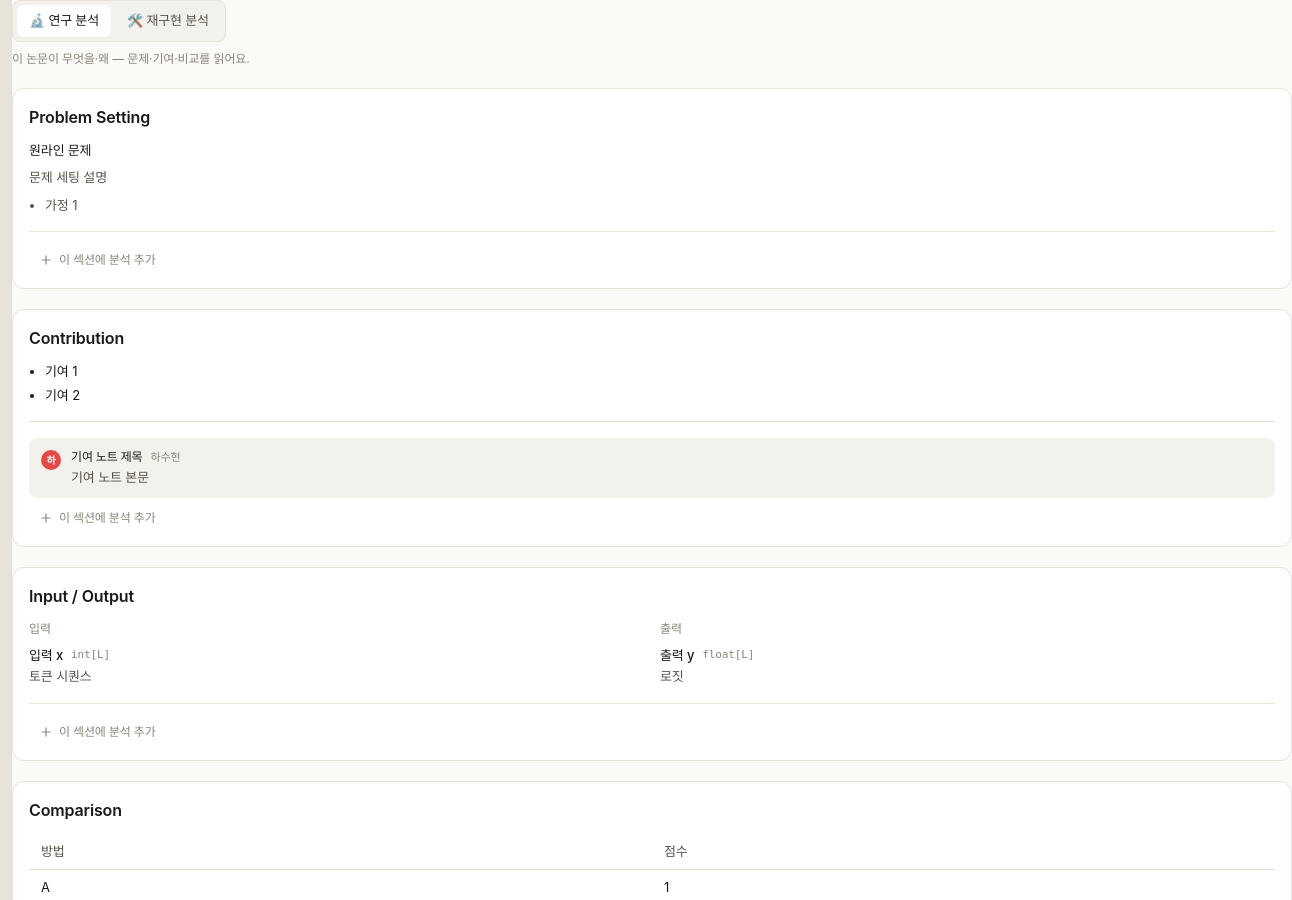
Test: AnalysisView 재구현 — GitHub 구조·모델 구조 › 재구현 관점에 GitHub 구조와 모델 구조 섹션이 보인다
Click the button "🛠️ 재구현 분석".
click(168, 21)  # box [115,5,221,36]
(page scrolled)
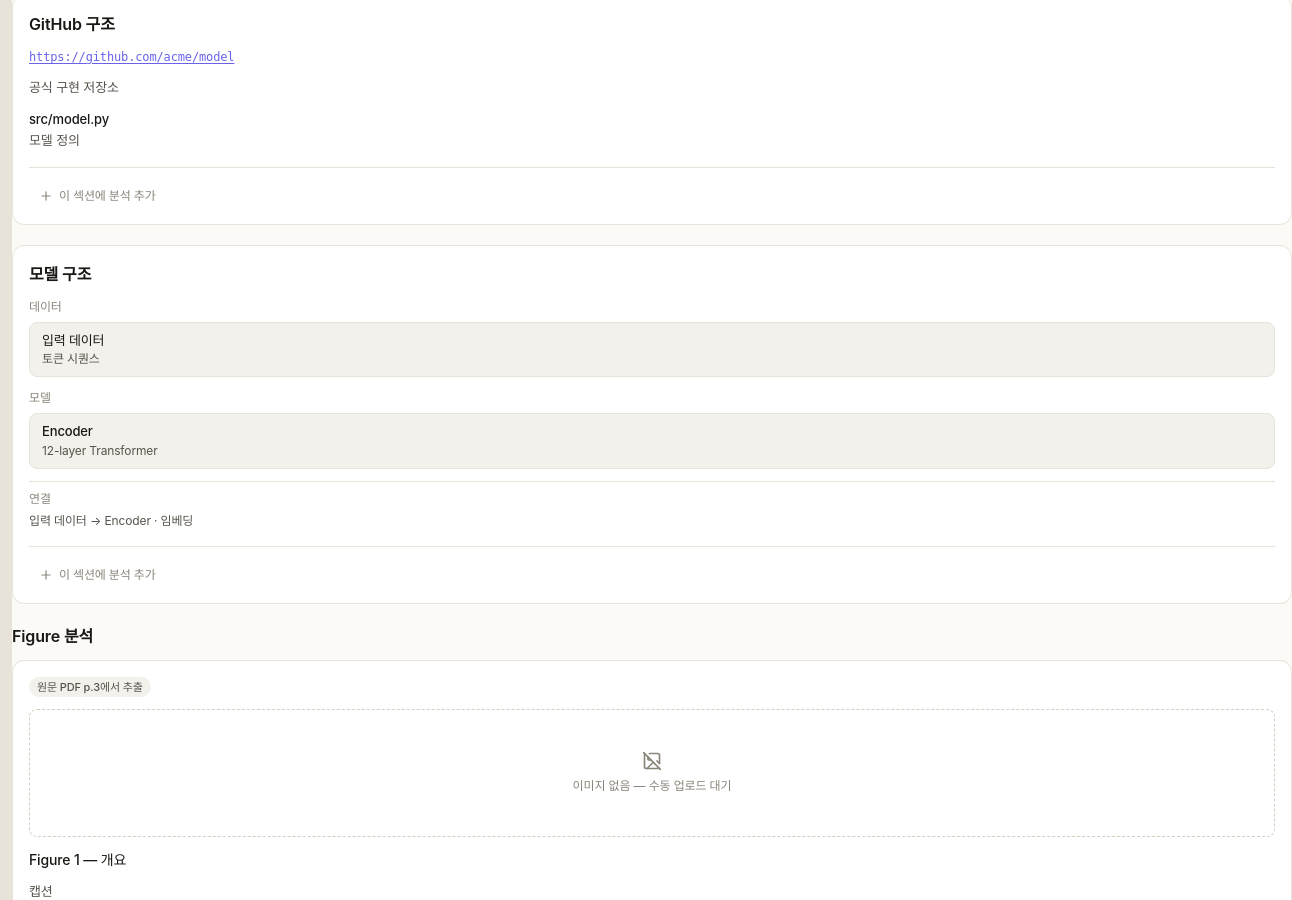
Expected: the heading "GitHub 구조" is shown, [29,14,115,34]
Expected: the link "https://github.com/acme/model" is shown, [29,48,234,66]
Expected: the text "src/model.py" is shown, [29,110,109,126]
